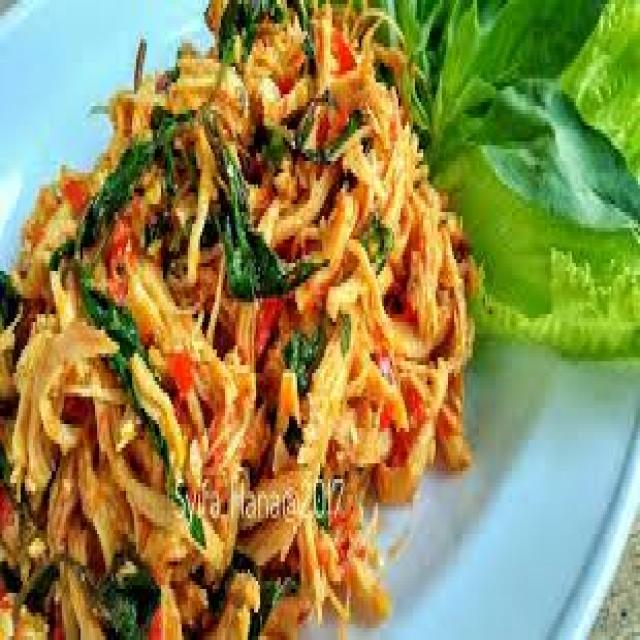ayam_suwir: (3, 10, 474, 639)
